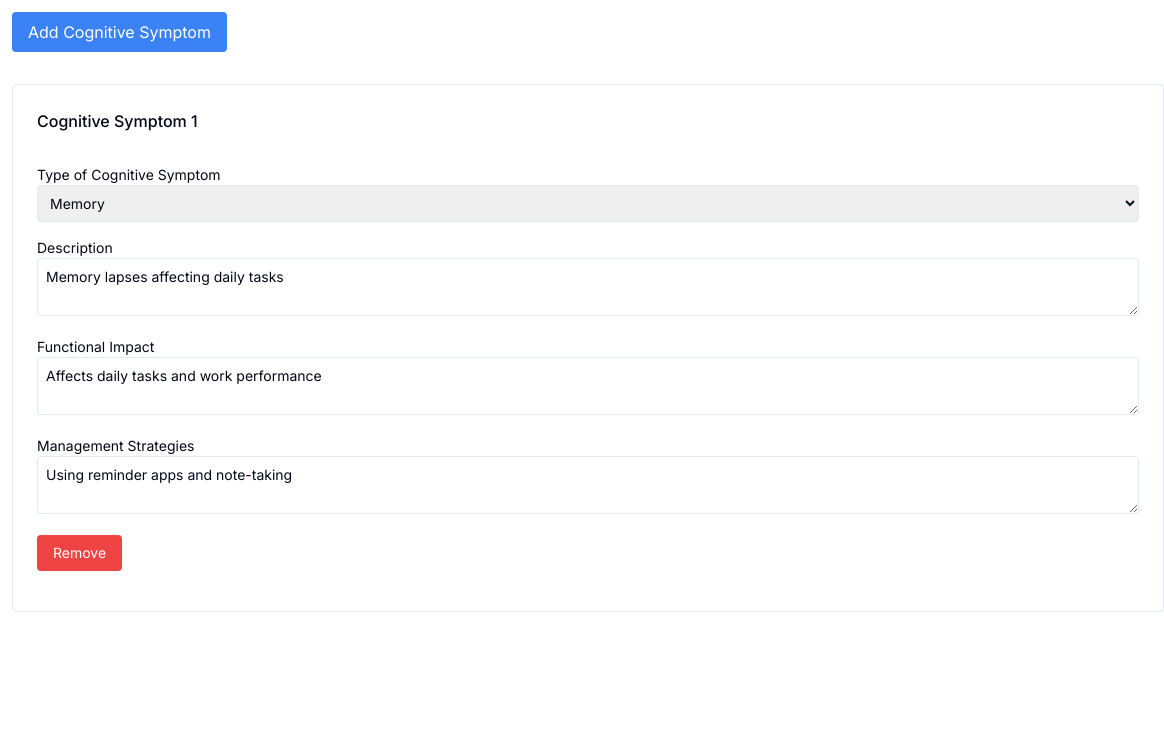
Test case: CognitiveSymptoms › allows removing a symptom
Click the button "Cognitive Symptom 1" at (114, 121), box [21,93,1155,149]
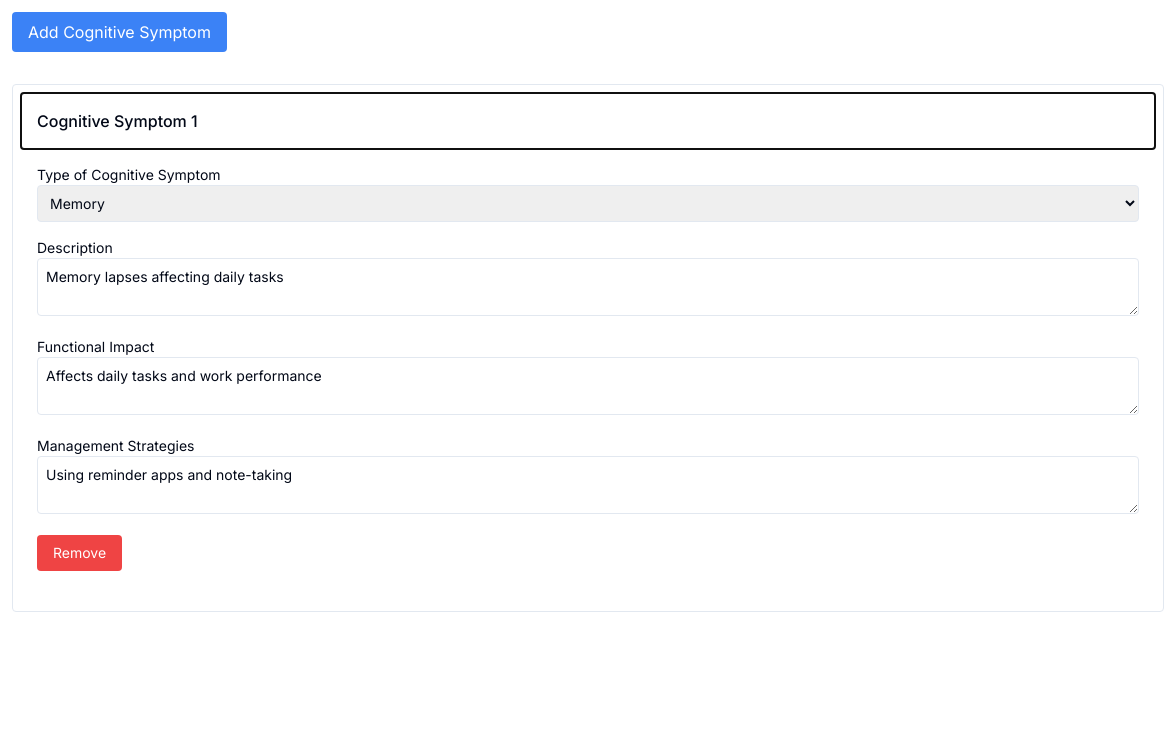
Click the button "Remove" at (80, 553), box [37,535,122,571]
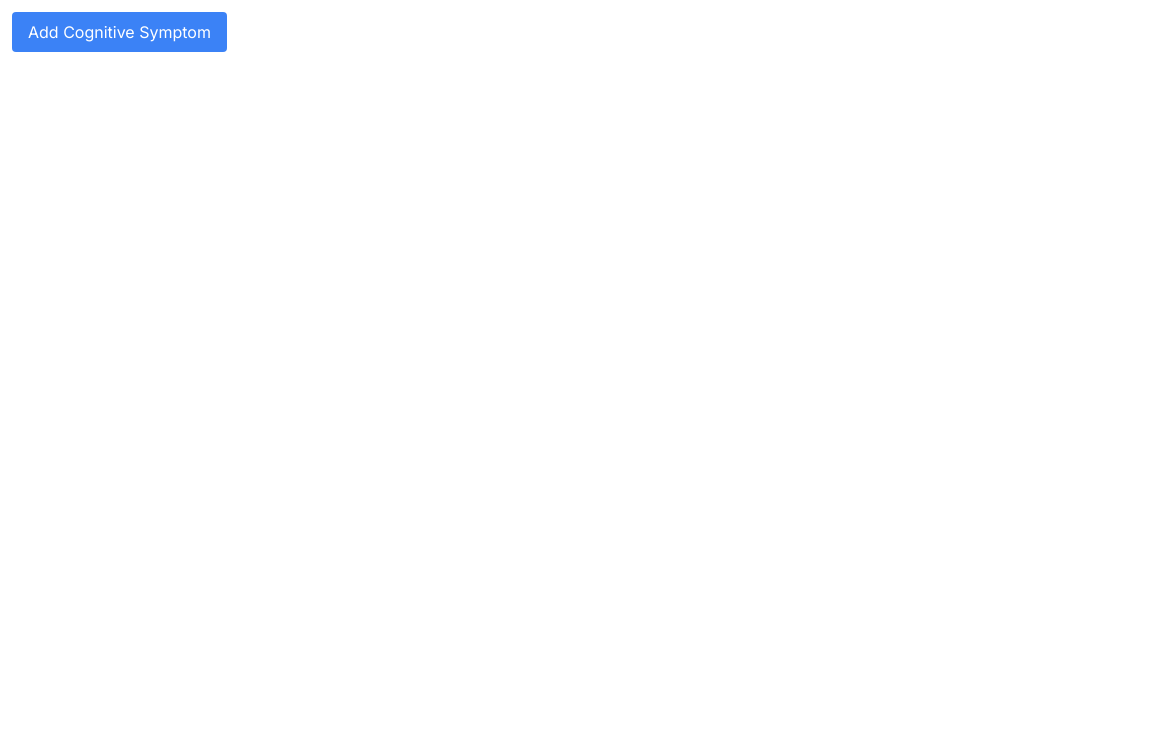
Check: the element with test id "cognitive-symptom-1" is gone
